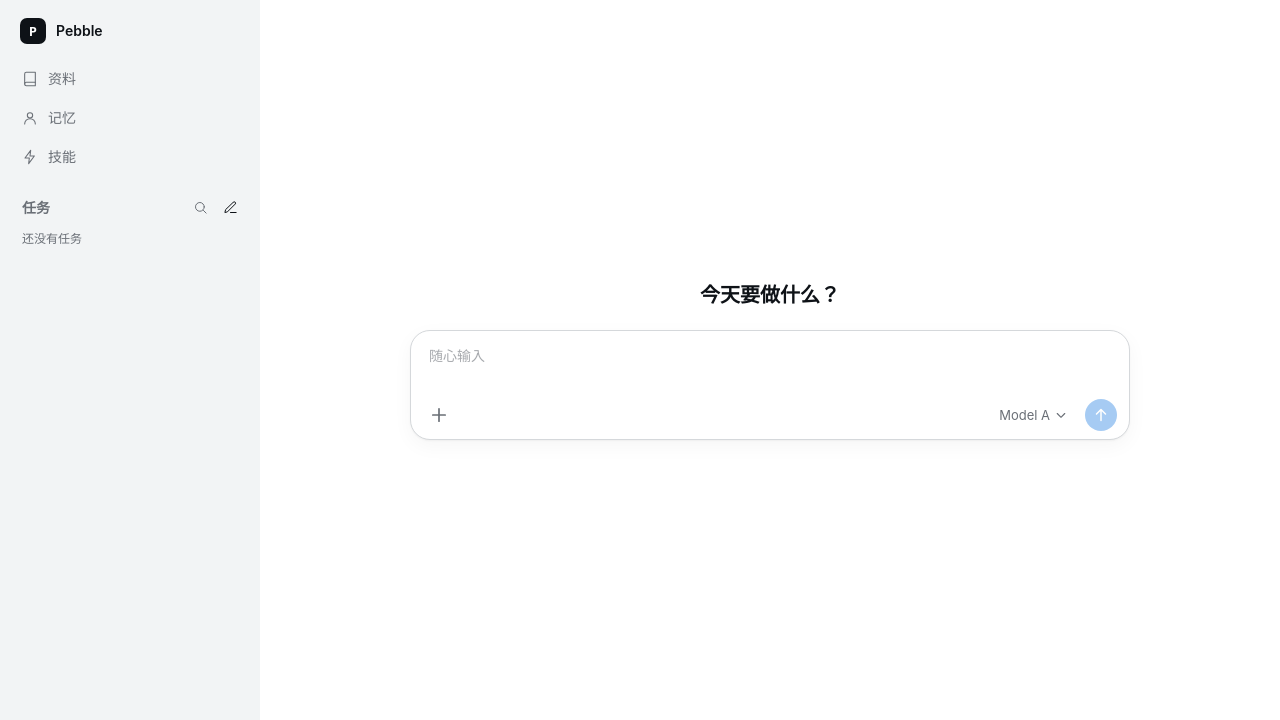
Test: 输入被拒绝不提供重试，编辑后重发把文字放回首页输入框
Type "解释 JIT" into the field named "消息" at (770, 369), box x1=423 y1=343 x2=1117 y2=395
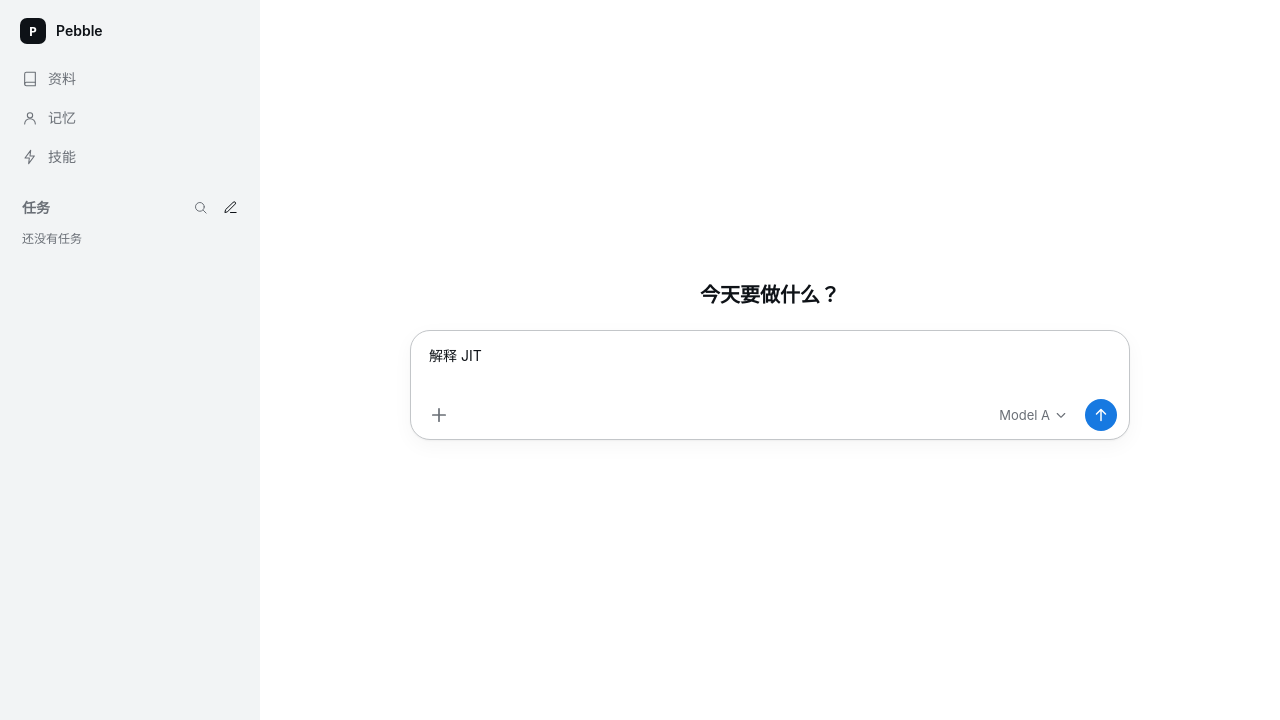
Expected: the button named "发送" is enabled
Click the button named "发送" at (1101, 415), box x1=1085 y1=399 x2=1117 y2=431
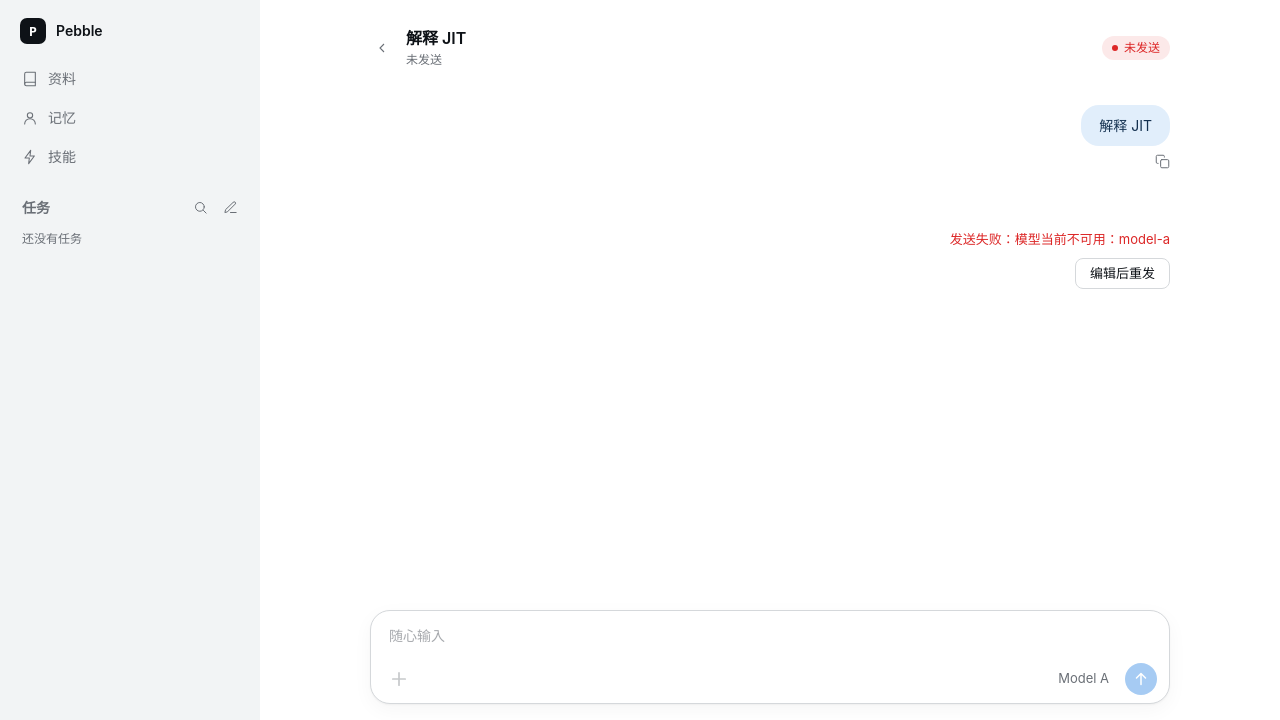
Expected: the text "发送失败：模型当前不可用：model-a" is shown, x1=950 y1=230 x2=1170 y2=250
Click the button "编辑后重发" at (1122, 274), box x1=1075 y1=258 x2=1170 y2=289
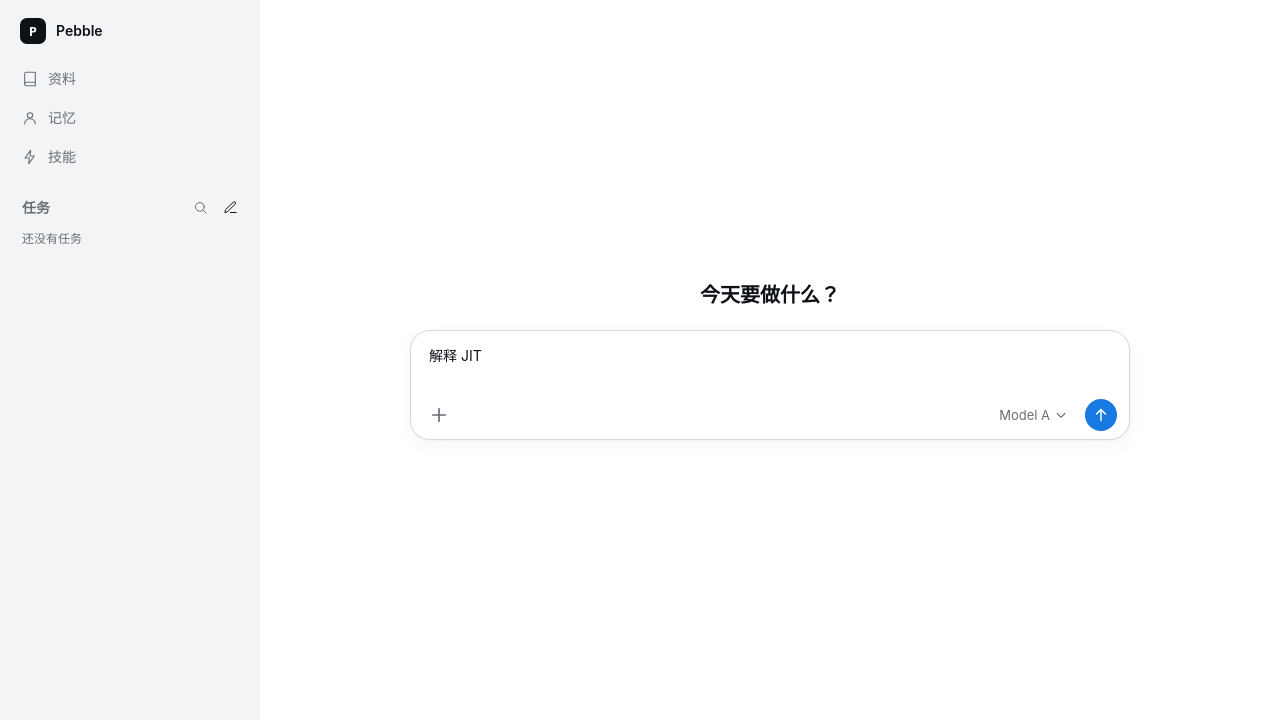
Expected: the field named "消息" reads "解释 JIT", x1=429 y1=347 x2=482 y2=364
